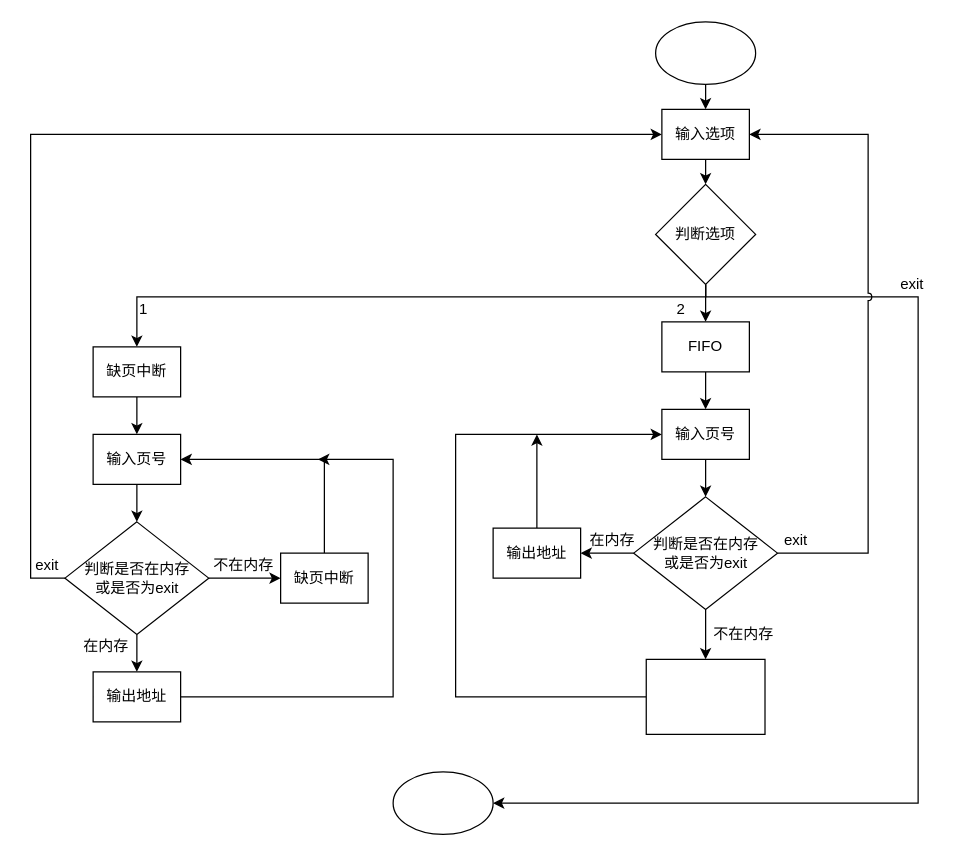
This 953x856 diagram has some shape labels left out. Here are the shapes that lost their labels. From the top down, the centre of each, then its label:
[705,52]: 开始
[705,696]: 将内存页面中的第一个页面换出内存，在最后追加新页面
[442,802]: 退出
